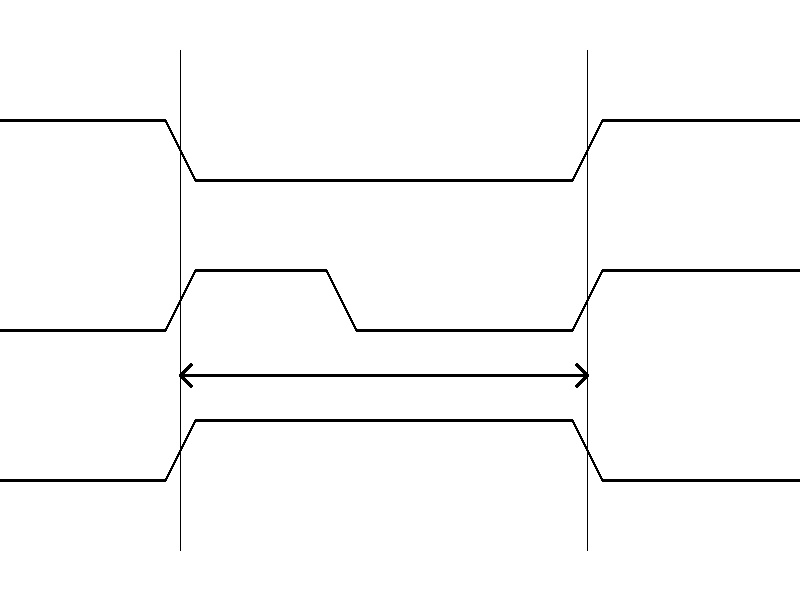double_arrow: (180, 360, 587, 390)
